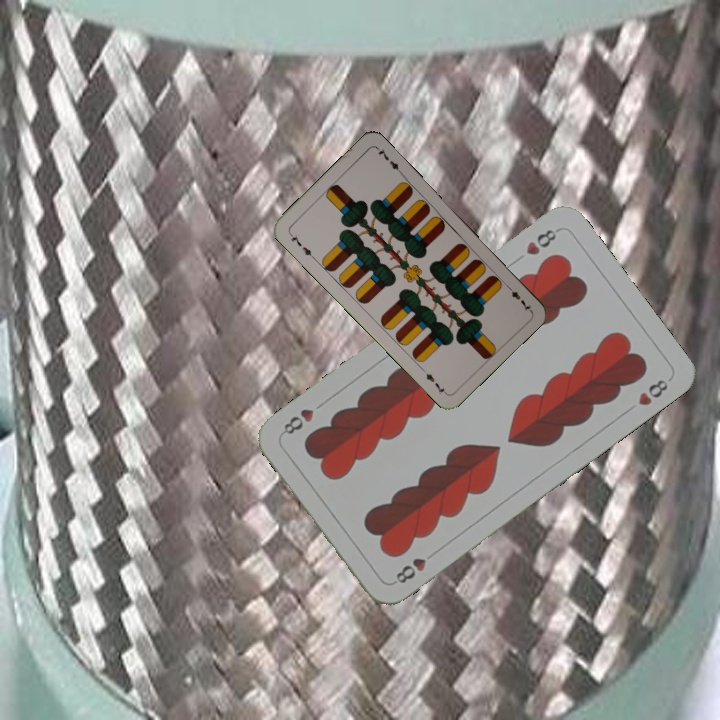E7: (285, 229, 317, 261), (502, 281, 533, 314)
H8: (521, 224, 563, 258), (392, 553, 429, 586)
